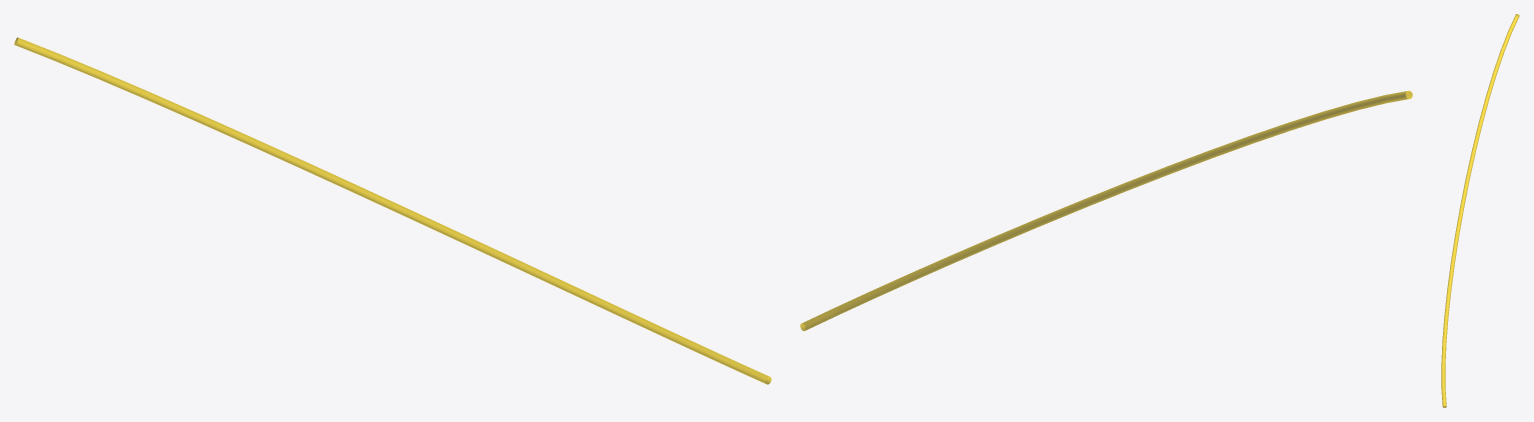
The model's file is Event_17758602_track_141.fbx.
3 views of the same model, side by side, from view 1: azimuth 30°, elevation 25°; view 2: azimuth 150°, elevation 25°; view 3: azimuth 270°, elevation 25° (orthographic). The views are drawn at different scales.
Visible parts, largest first — view 1: Model; view 2: Model; view 3: Model.
Boxes of the visible parts, x1,y1,x2,y2 form: Model: (14,37,771,384); Model: (800,90,1412,331); Model: (1441,14,1519,407).
Size of the model in its own units: 3.76 by 2.41 by 0.7476.
